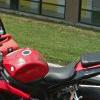Motorcycle: (10, 39, 100, 100)
